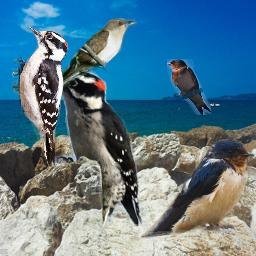Cuckoo: (20, 17, 139, 118)
Swallow: (141, 138, 256, 240), (167, 59, 211, 115)
Woodpecker: (43, 70, 143, 226), (12, 26, 69, 170)
